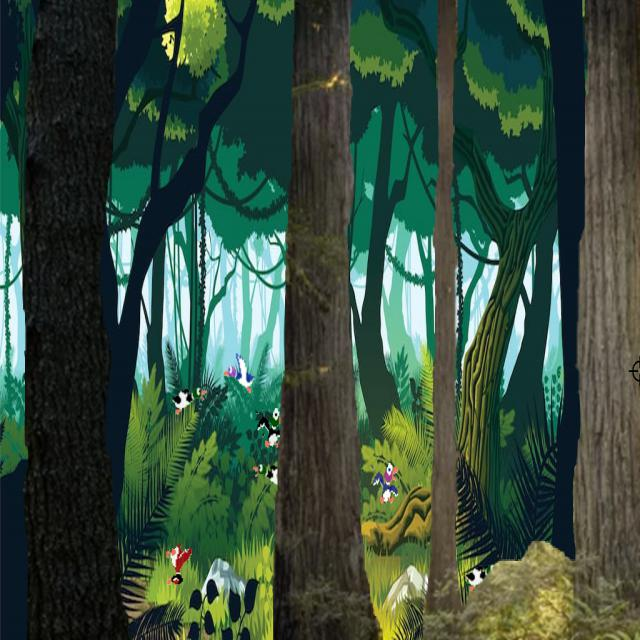duck: (222, 348, 261, 406), (168, 377, 210, 416), (251, 457, 285, 489)
falling_duck: (162, 538, 196, 596), (374, 455, 402, 511), (258, 406, 286, 448)
